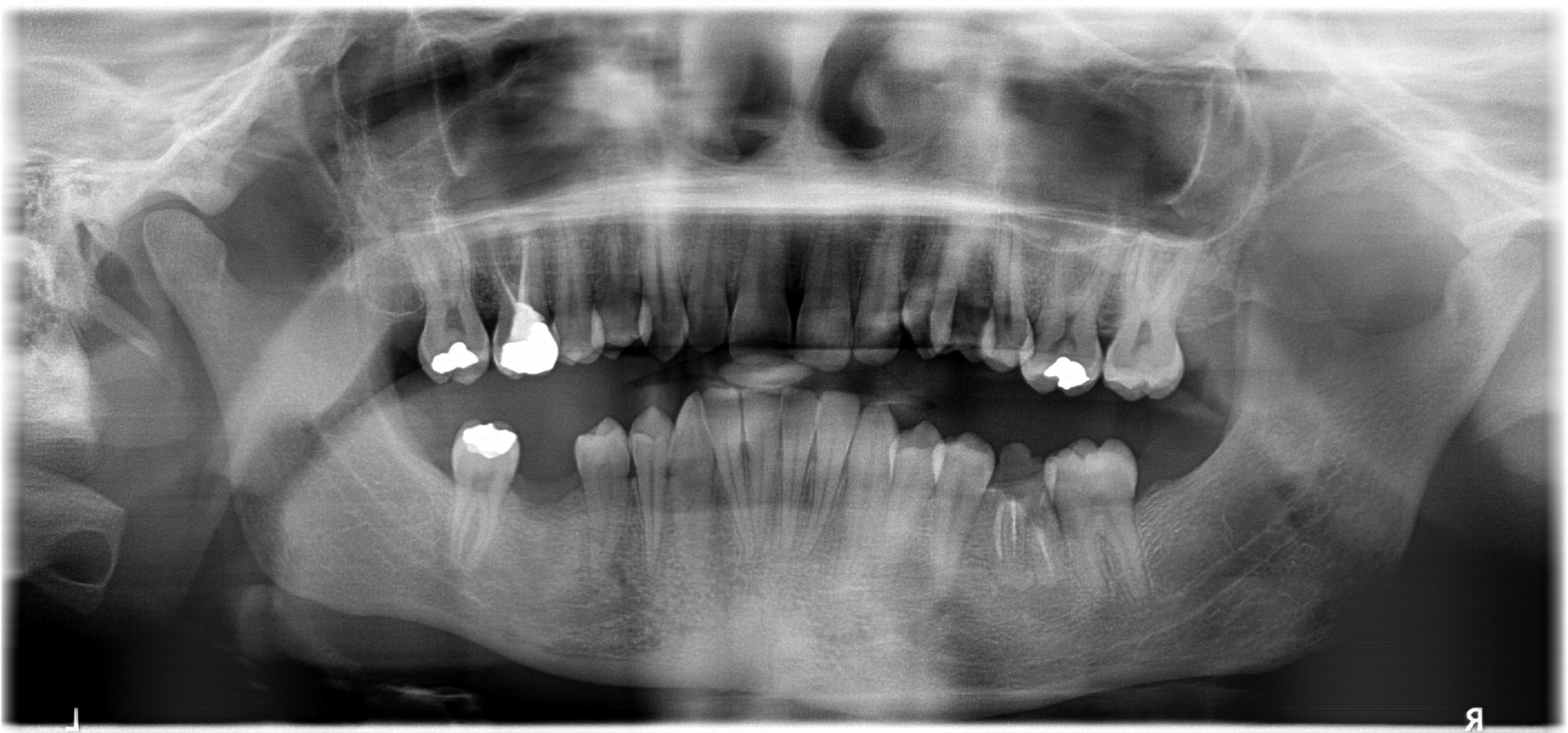Premolars: (536, 239, 1568, 690)
